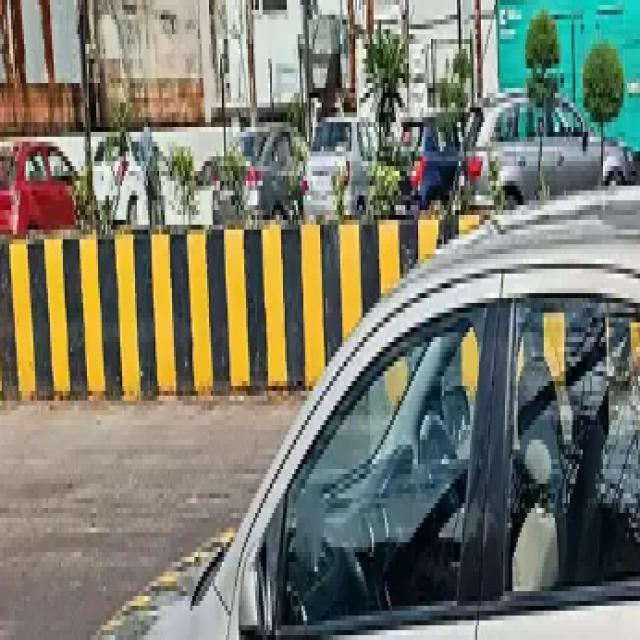car: (16, 102, 640, 640)
